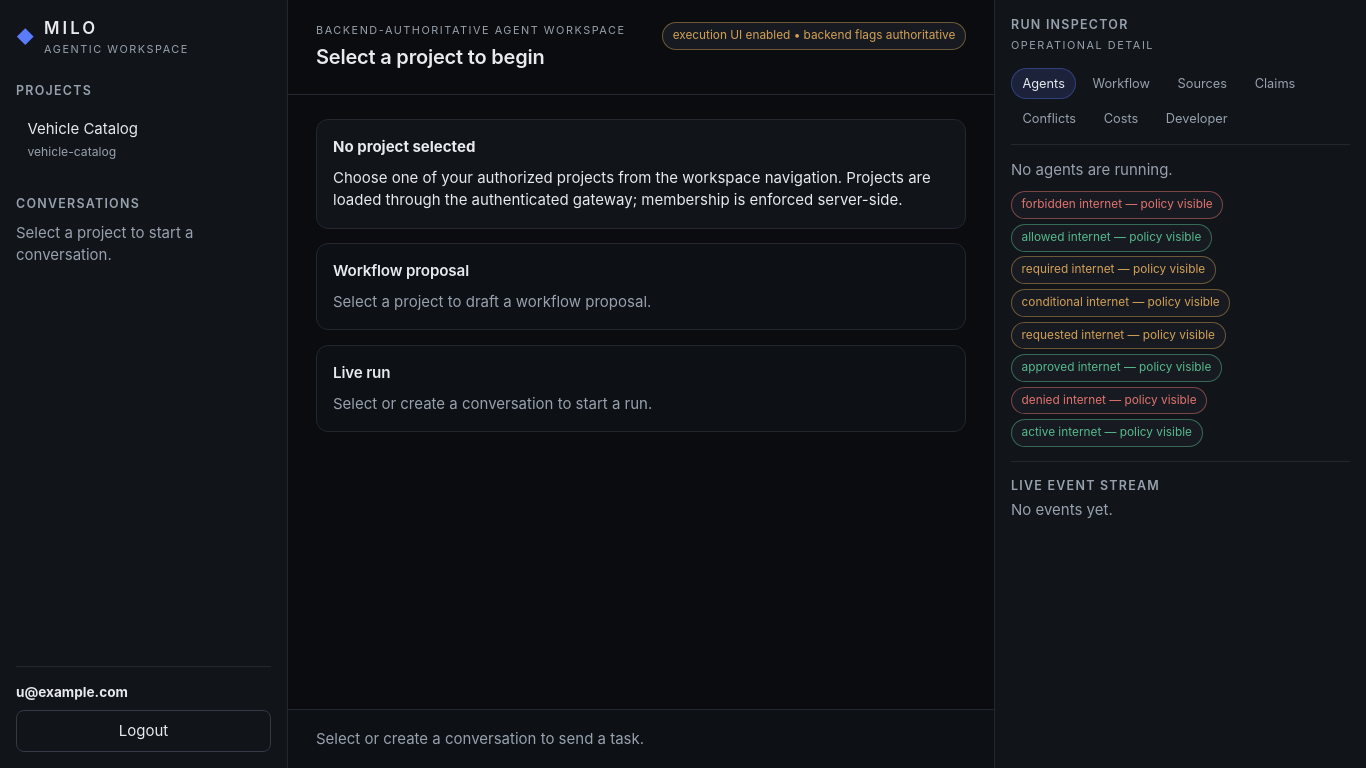
Test: 13/14. Swarm V1 keeps the existing run panel › 13. a Swarm V1 project still renders CurrentRunPanel
The width and height of the screenshot is (1366, 768).
Step 1. Click the text "Vehicle Catalog" → (83, 128), box x1=27 y1=119 x2=138 y2=138
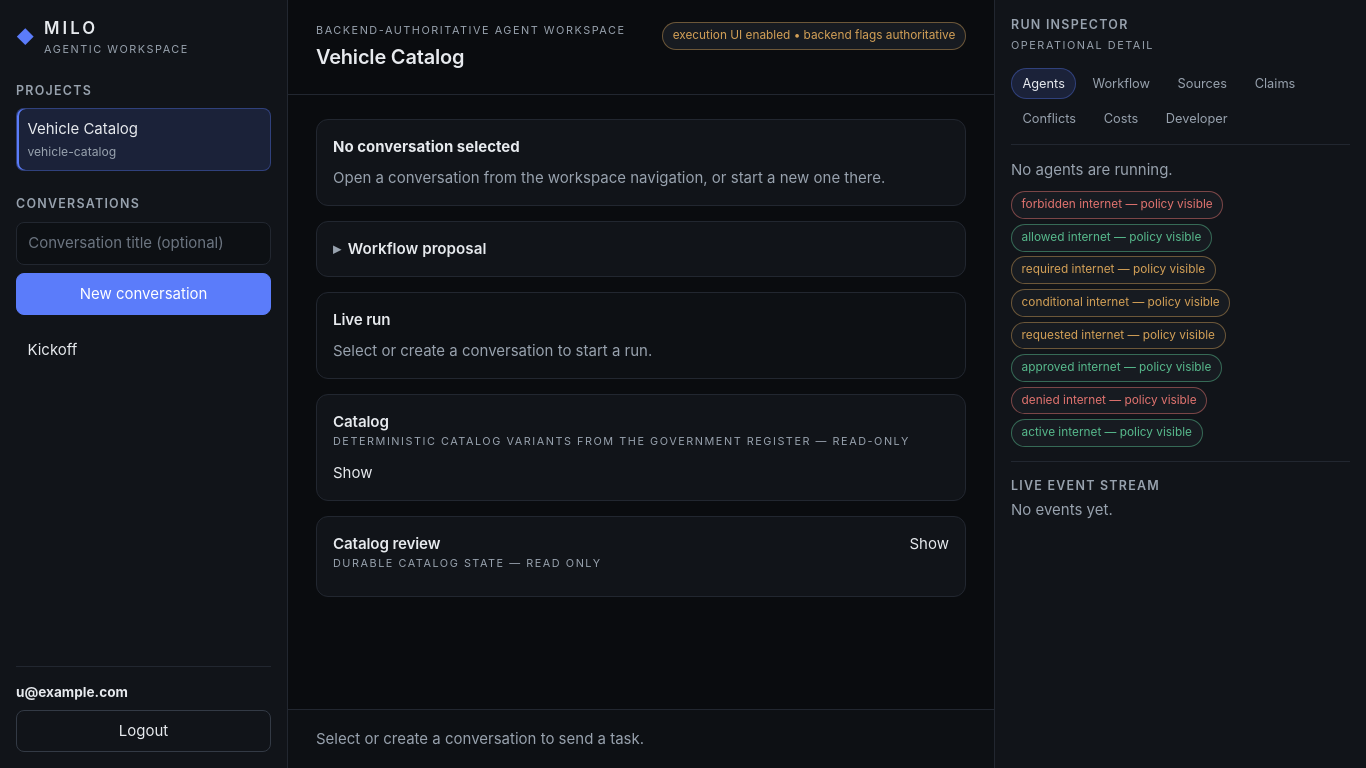
Step 2. Click the button "Kickoff" → (144, 350), box x1=16 y1=329 x2=271 y2=371
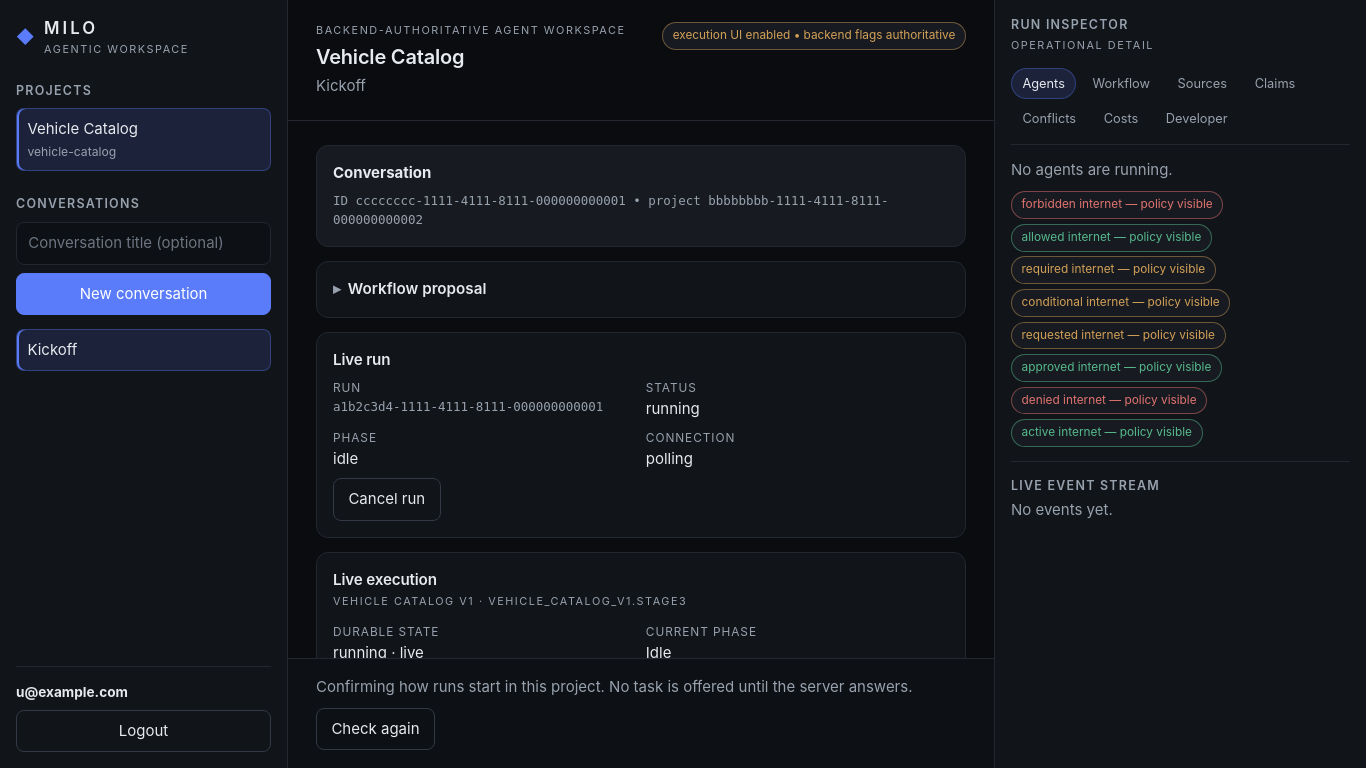
Expected: the heading "Live run" is shown, x1=333 y1=350 x2=390 y2=370
Now the text "Phase" is shown, box x1=333 y1=431 x2=377 y2=445
Now the text "Connection" is shown, box x1=646 y1=431 x2=735 y2=445
